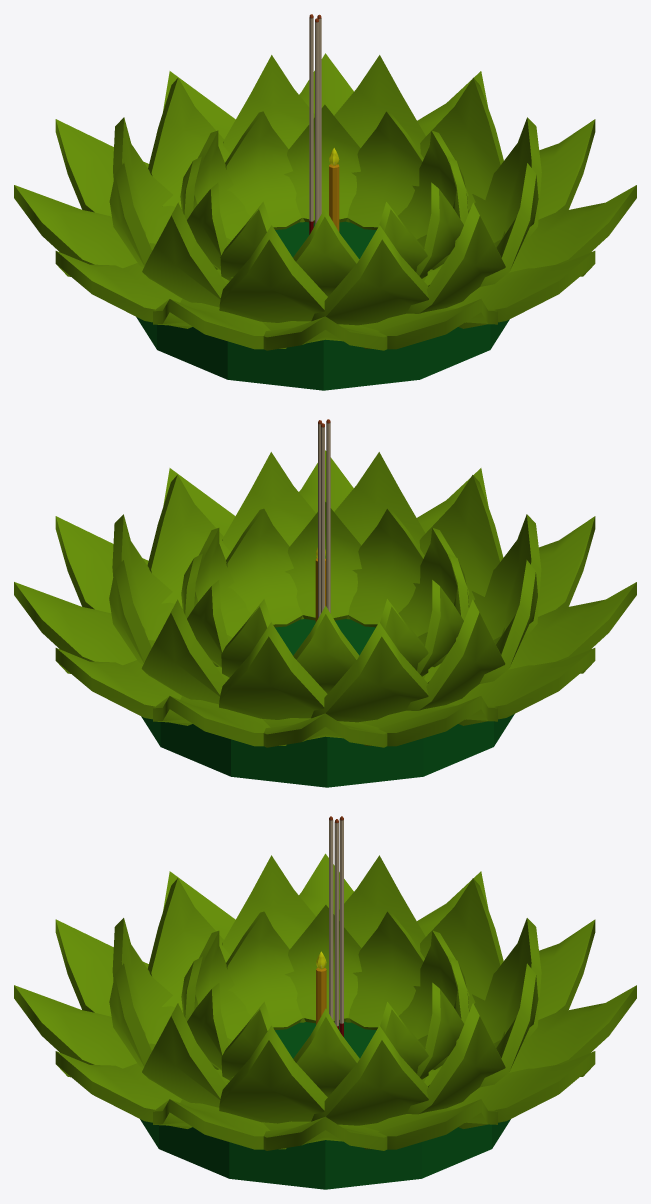
Rendered from krathong_03.fbx.
3 renders of one model, top to bottom at view 1: azimuth 30°, elevation 25°; view 2: azimuth 150°, elevation 25°; view 3: azimuth 270°, elevation 25°, orthographic.
Visible parts, largest first — view 1: pCube107; view 2: pCube107; view 3: pCube107.
Boxes of the visible parts, x1,y1,x2,y2 form: pCube107: (14,14,636,390); pCube107: (14,419,636,787); pCube107: (14,816,636,1189).
Size of the model in its own units: 29.14 by 14.96 by 29.14.
